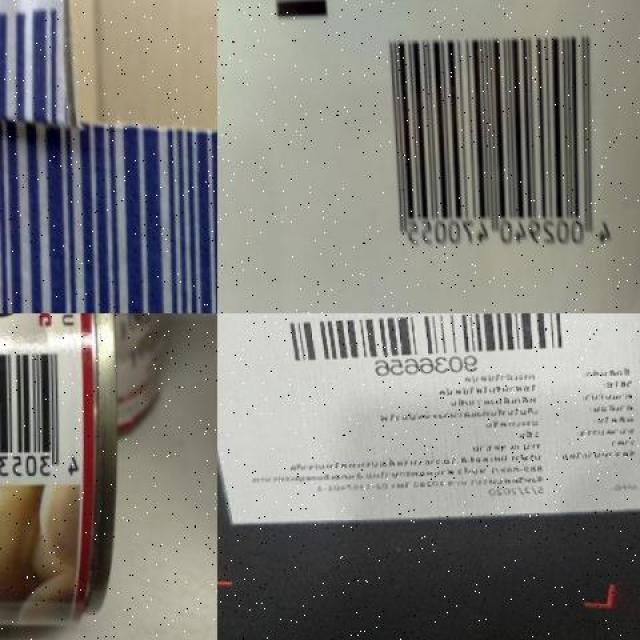Barcode: (357, 19, 624, 276), (0, 0, 217, 313), (268, 313, 584, 379), (0, 336, 80, 487)
